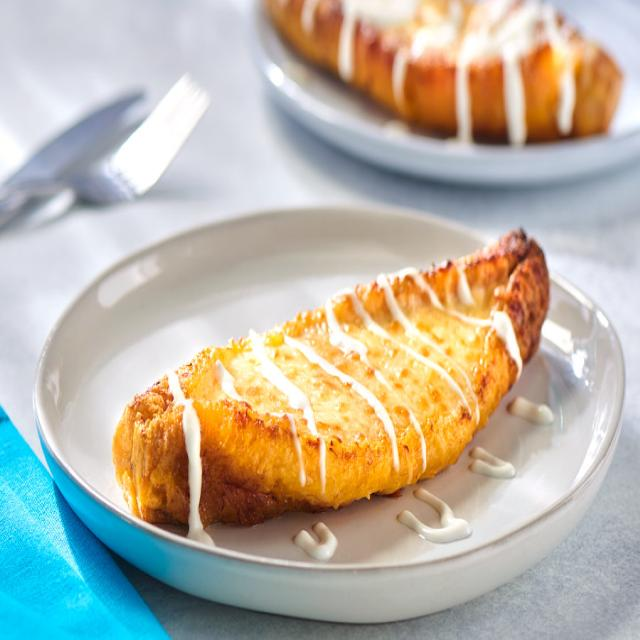platano: (117, 243, 562, 523)
